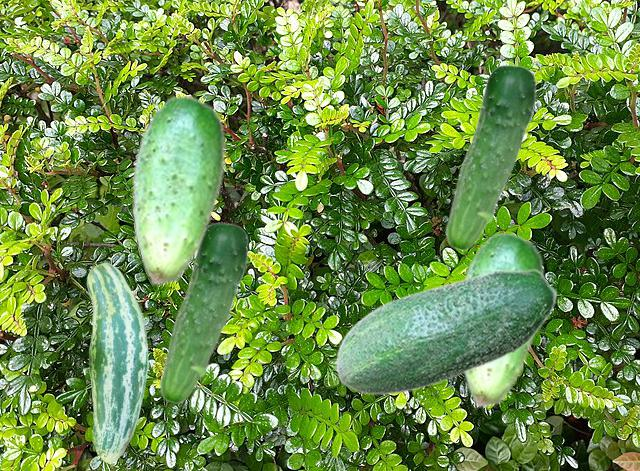cucumber: (335, 268, 557, 394), (131, 94, 224, 285), (444, 64, 536, 250), (158, 222, 248, 403), (461, 231, 543, 407), (86, 262, 147, 462)
